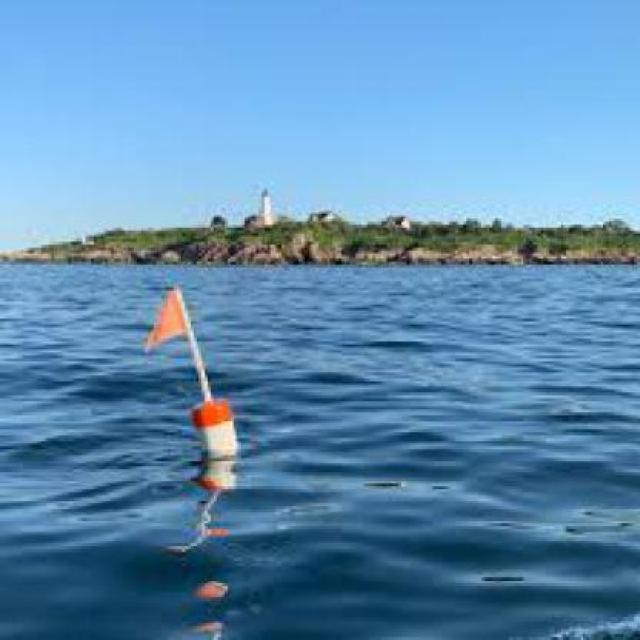buoy: (129, 280, 260, 474)
